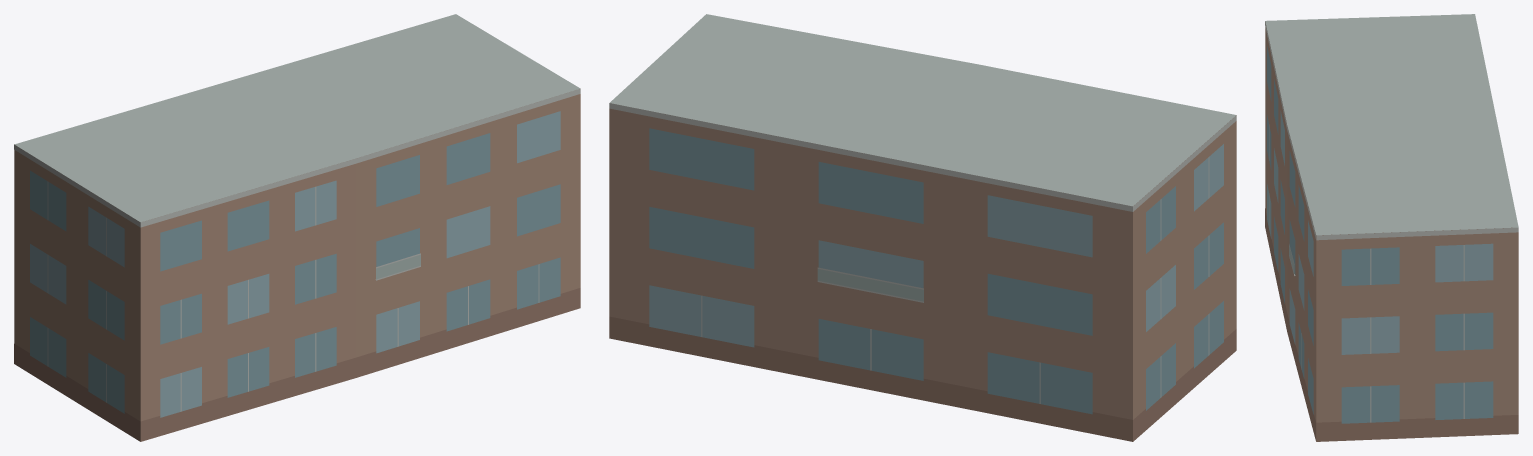
The model's file is survey-upis-32778820.glb.
3 views of the same model, side by side, from view 1: azimuth 30°, elevation 25°; view 2: azimuth 150°, elevation 25°; view 3: azimuth 270°, elevation 25° (orthographic). The views are drawn at different scales.
Visible parts, largest first — view 1: survey-upis-32778820.tmp; view 2: survey-upis-32778820.tmp; view 3: survey-upis-32778820.tmp.
Part boxes in pixels (x1,y1,x2,y2): survey-upis-32778820.tmp: [14, 14, 580, 441]; survey-upis-32778820.tmp: [609, 14, 1236, 441]; survey-upis-32778820.tmp: [1265, 14, 1518, 441].
Size of the model in its own units: 23.68 by 10.3 by 11.47.
